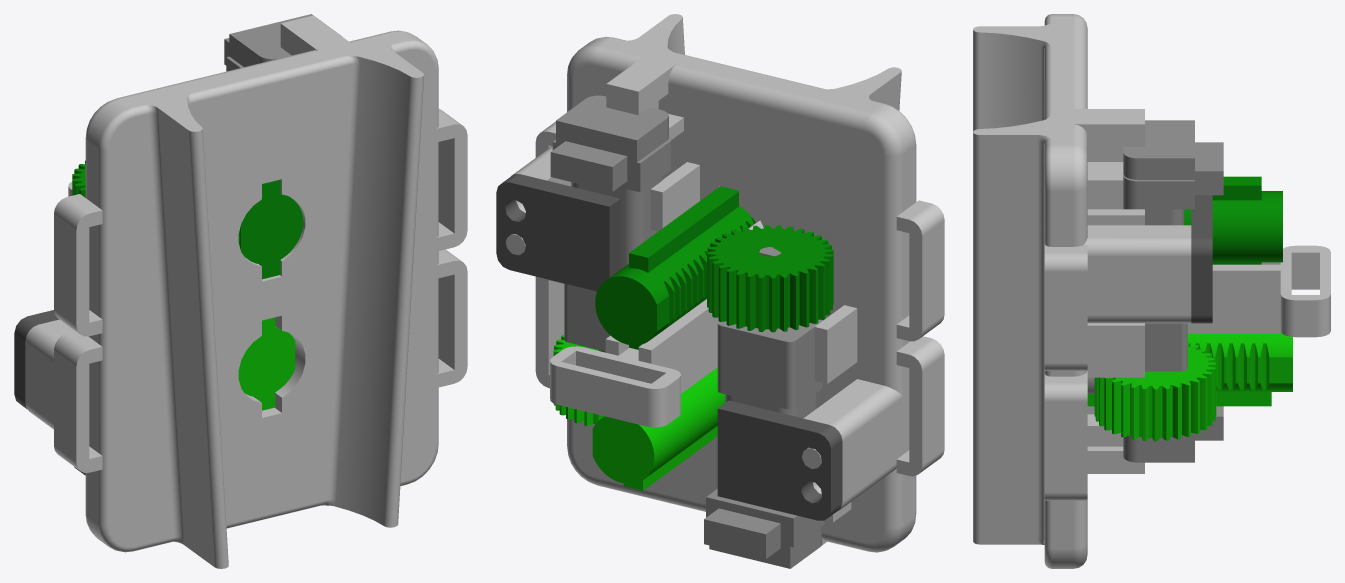
The model's file is imwut2025.obj.
The picture shows the model from 3 angles, left to right: view 1: azimuth 30°, elevation 25°; view 2: azimuth 150°, elevation 25°; view 3: azimuth 270°, elevation 25°; orthographic projection. The views are drawn at different scales.
Visible parts, largest first — view 1: Solid1:7, Solid1:3, Solid1:4, Solid1:6, Solid1:5; view 2: Solid1:7, Solid1, Solid1:6, Solid1:5, Solid1:3, Solid1:2, Solid1:8, Solid1:4, Solid1:1; view 3: Solid1:7, Solid1:6, Solid1:1, Solid1:4, Solid1:3, Solid1:8, Solid1.
Part boxes in pixels (box(x1,y1,x2,y2)): Solid1:7: box(25, 15, 467, 568); Solid1:3: box(238, 179, 303, 279); Solid1:4: box(238, 317, 295, 410); Solid1:6: box(224, 14, 342, 71); Solid1:5: box(14, 310, 59, 409); Solid1:7: box(506, 14, 944, 552); Solid1: box(704, 247, 825, 568); Solid1:6: box(550, 95, 671, 351); Solid1:5: box(717, 400, 842, 520); Solid1:3: box(595, 186, 755, 349); Solid1:2: box(707, 225, 833, 332); Solid1:8: box(496, 174, 620, 291); Solid1:4: box(592, 367, 725, 490); Solid1:1: box(553, 335, 605, 426); Solid1:7: box(973, 14, 1330, 568); Solid1:6: box(1123, 120, 1223, 371); Solid1:1: box(1094, 342, 1216, 441); Solid1:4: box(1087, 331, 1292, 406); Solid1:3: box(1184, 176, 1282, 264); Solid1:8: box(1191, 195, 1212, 323); Solid1: box(1123, 406, 1223, 462).
Size of the model in its own units: 60 by 65 by 50.
